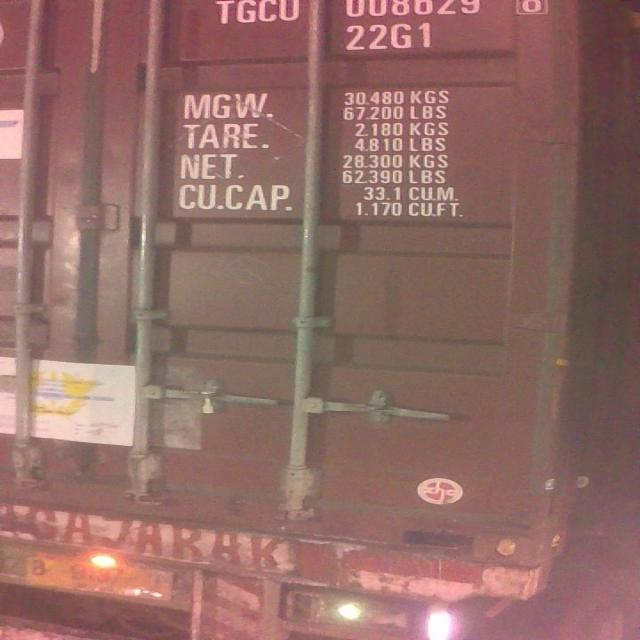seal: (196, 389, 226, 420)
